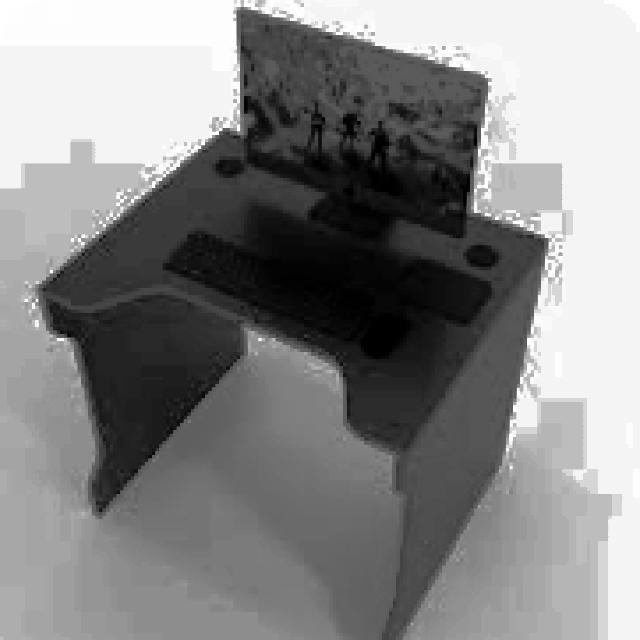table: (35, 124, 548, 636)
